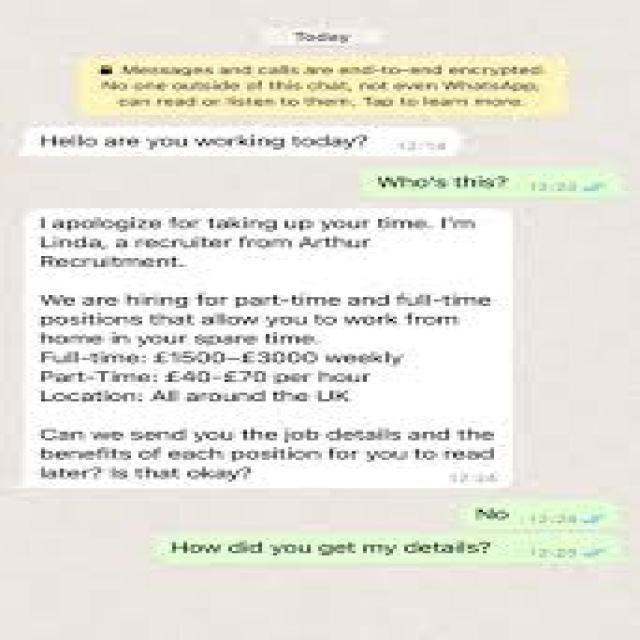scam: (34, 206, 498, 489), (25, 124, 463, 162)
